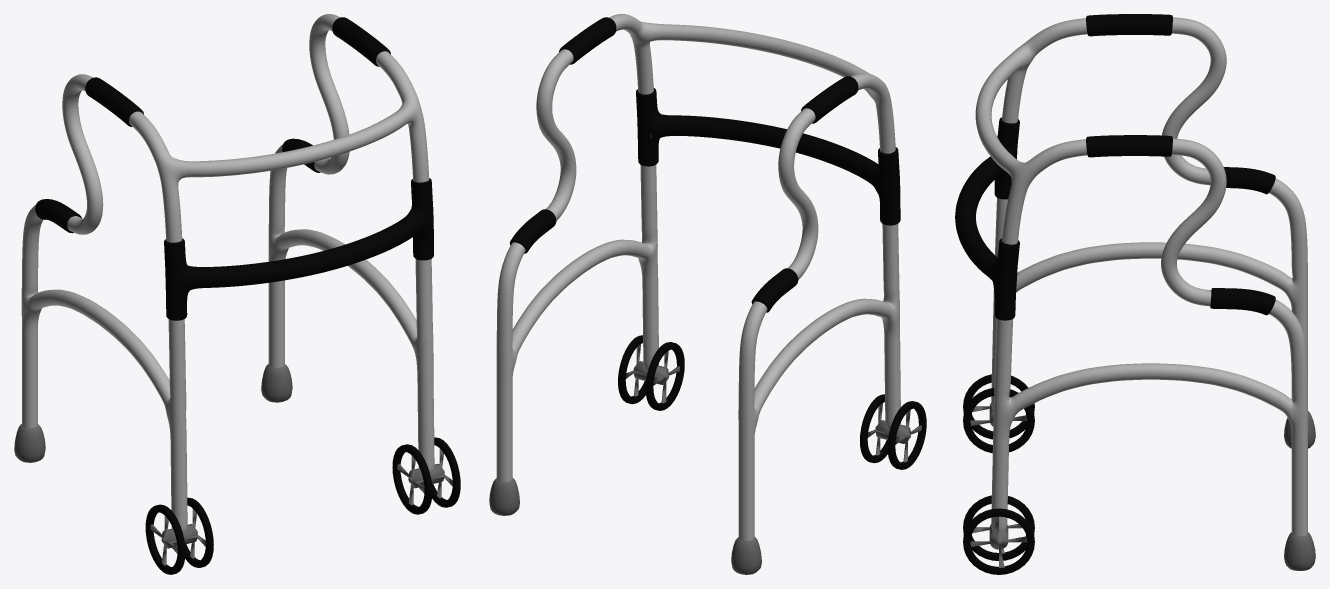
Rendered from walker_1.fbx.
The picture shows the model from 3 angles, left to right: view 1: azimuth 30°, elevation 25°; view 2: azimuth 150°, elevation 25°; view 3: azimuth 270°, elevation 25°; orthographic projection. The views are drawn at different scales.
Visible parts, largest first — view 1: Plane.003; view 2: Plane.003; view 3: Plane.003.
Boxes of the visible parts, left/top/right/bottom form: Plane.003: left=14, top=14, right=460, bottom=574; Plane.003: left=489, top=14, right=926, bottom=574; Plane.003: left=955, top=14, right=1315, bottom=574.
Bounding box in the file's own units: 72.66 × 106 × 80.16.
